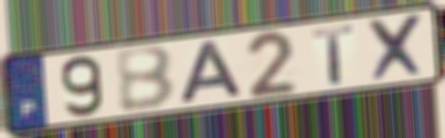2: (244, 28, 301, 101)
9: (59, 53, 105, 118)
A: (175, 39, 247, 106)
B: (112, 43, 178, 115)
T: (309, 22, 359, 87)
X: (366, 11, 429, 85)
